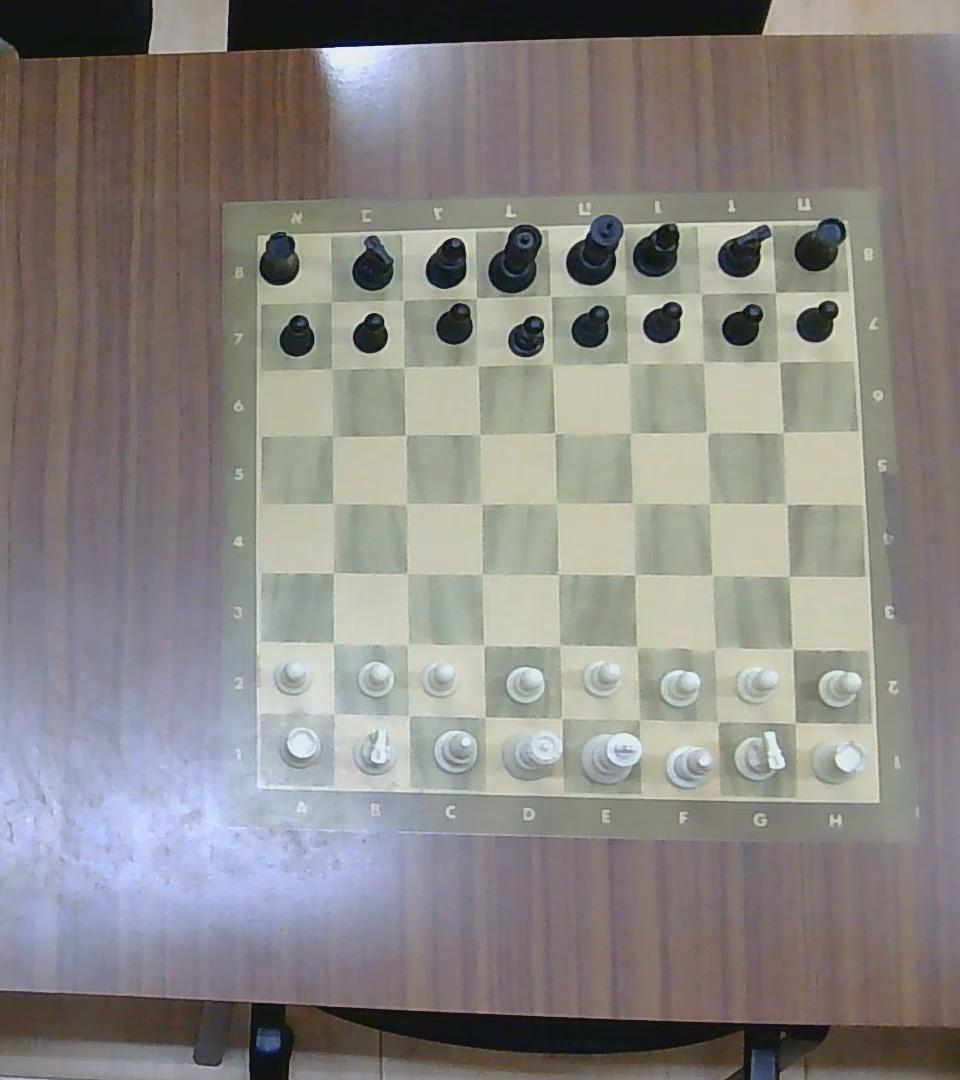xcorner: (618, 629, 653, 663), (620, 701, 654, 735), (776, 705, 810, 738), (543, 700, 576, 734), (697, 631, 731, 664), (699, 704, 732, 736), (468, 699, 500, 731), (619, 557, 650, 589), (318, 697, 349, 729), (543, 628, 574, 660), (392, 699, 423, 731), (776, 632, 807, 663), (468, 629, 499, 659), (772, 560, 803, 590), (317, 627, 347, 658), (392, 629, 422, 659), (466, 558, 496, 588), (697, 560, 727, 590), (543, 558, 573, 588), (392, 557, 422, 586), (317, 557, 346, 586), (466, 488, 495, 517), (619, 488, 648, 517), (461, 282, 490, 311), (694, 488, 723, 517), (542, 488, 571, 517), (615, 417, 644, 446), (692, 417, 721, 446), (317, 419, 345, 448), (611, 279, 640, 307), (319, 487, 348, 515), (536, 281, 565, 309), (771, 489, 801, 516), (537, 349, 566, 376), (767, 418, 796, 445), (392, 489, 420, 516), (317, 354, 345, 381), (540, 418, 568, 445), (464, 352, 492, 379), (614, 349, 642, 376), (316, 287, 345, 313), (389, 352, 416, 379), (688, 280, 714, 306), (390, 421, 417, 446), (762, 279, 789, 304), (690, 348, 716, 373), (466, 420, 491, 446), (390, 286, 415, 311), (766, 349, 791, 372)
